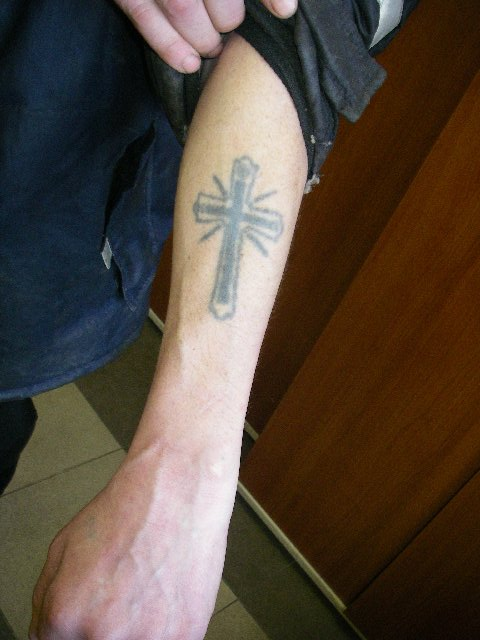tatu9_krest: (187, 149, 291, 328)
